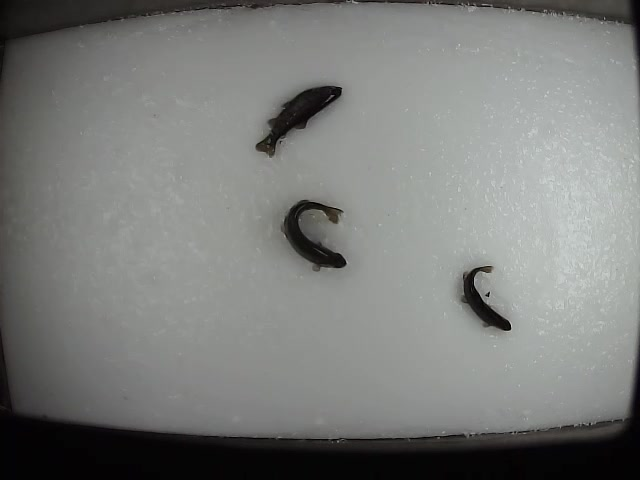fish: (254, 82, 344, 158), (279, 198, 352, 272), (458, 262, 515, 332)
